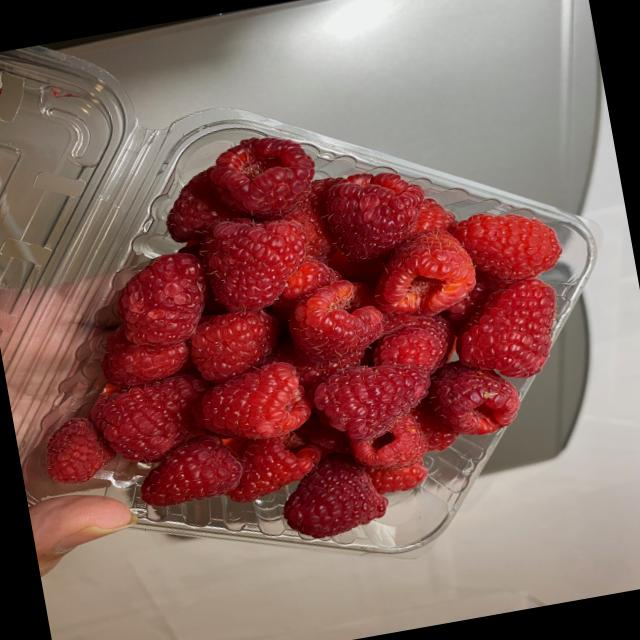raspberries: (51, 136, 591, 539)
